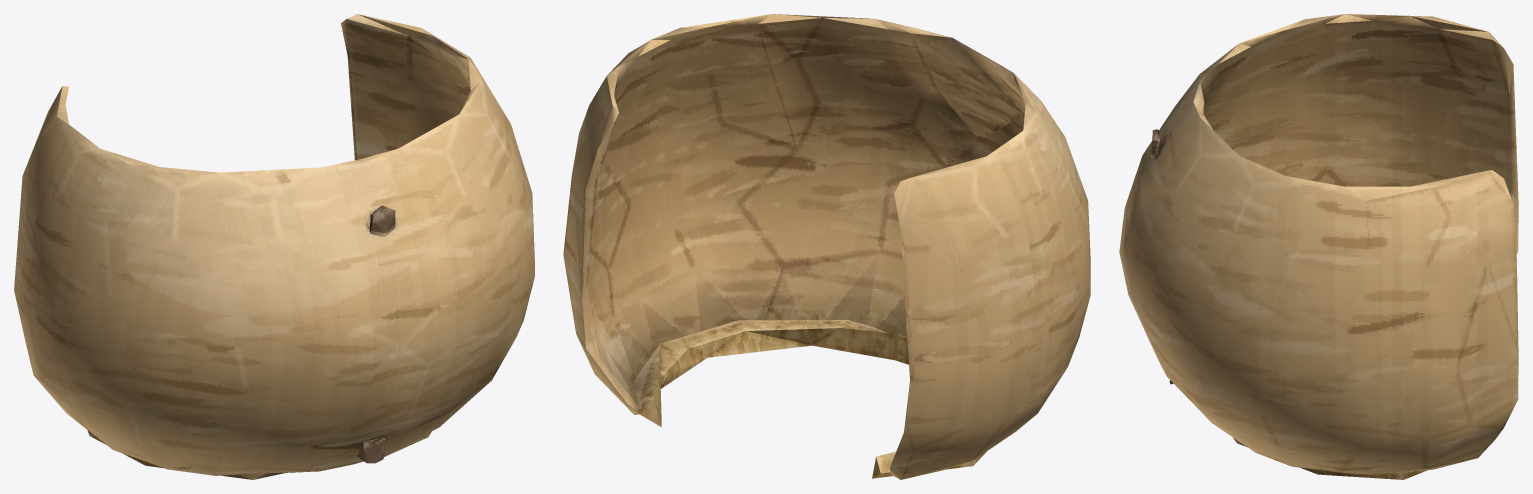
The model's file is raincoat.glb.
3 views of the same model, side by side, from view 1: azimuth 30°, elevation 25°; view 2: azimuth 150°, elevation 25°; view 3: azimuth 270°, elevation 25° (orthographic). The views are drawn at different scales.
Visible parts, largest first — view 1: raincoat_mesh; view 2: raincoat_mesh; view 3: raincoat_mesh.
Part boxes in pixels (bbox=[...]): raincoat_mesh: bbox=[14, 14, 534, 479]; raincoat_mesh: bbox=[563, 14, 1090, 479]; raincoat_mesh: bbox=[1119, 14, 1518, 479].
Bounding box in the file's own units: 26.9 × 17.56 × 20.95.
Materials: 1 (1 with a texture image).
